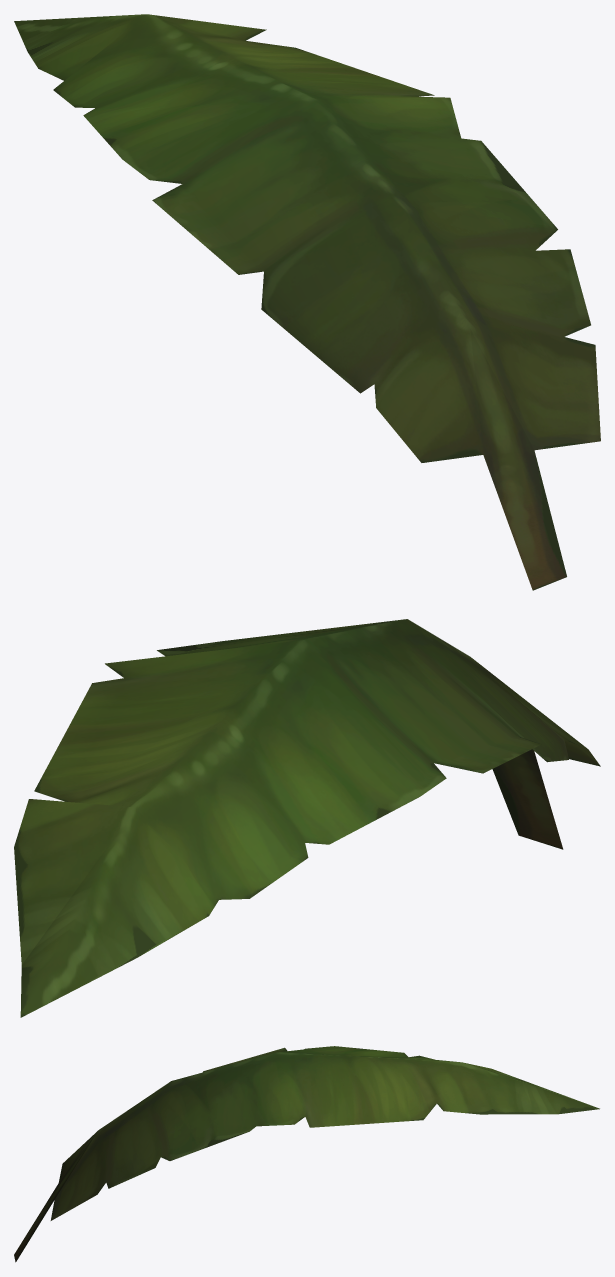
The model's file is Big_Leaf_03.fbx.
The picture shows the model from 3 angles, top to bottom: view 1: azimuth 30°, elevation 25°; view 2: azimuth 150°, elevation 25°; view 3: azimuth 270°, elevation 25°; orthographic projection. The views are drawn at different scales.
Visible parts, largest first — view 1: Big_Leaf_03; view 2: Big_Leaf_03; view 3: Big_Leaf_03.
Boxes of the visible parts, x1,y1,x2,y2 form: Big_Leaf_03: [14, 14, 600, 590]; Big_Leaf_03: [14, 619, 600, 1017]; Big_Leaf_03: [14, 1046, 599, 1262].
Bounding box in the file's own units: 1.28 × 1.31 × 3.46.
1 material, 1 textured.
